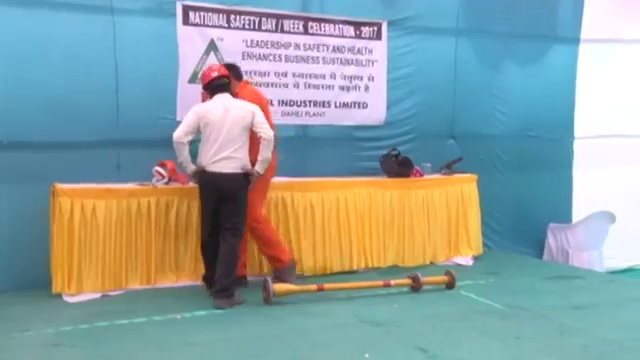helmet: (197, 63, 229, 87)
helmet_off: (223, 60, 244, 90)
helmet_on: (197, 64, 231, 103)
person: (170, 64, 275, 308), (219, 59, 298, 286)
